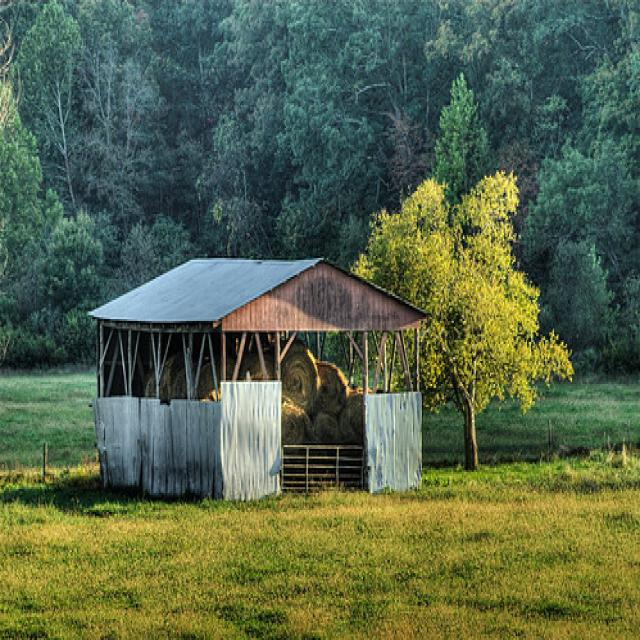building: (82, 249, 428, 513)
